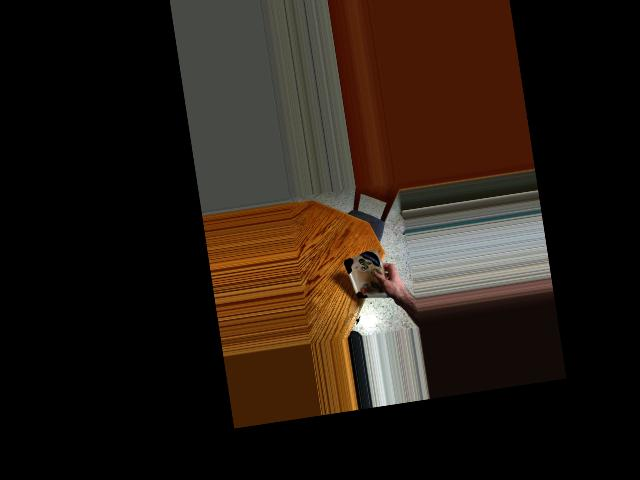cheese: (345, 246, 393, 311)
